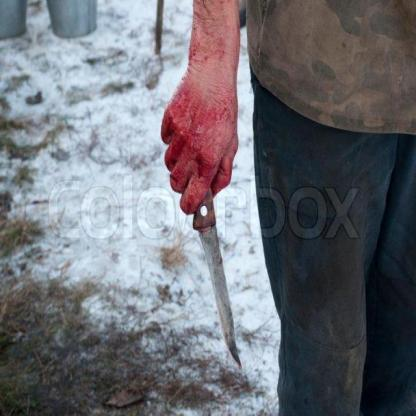Knife: (194, 184, 243, 368)
